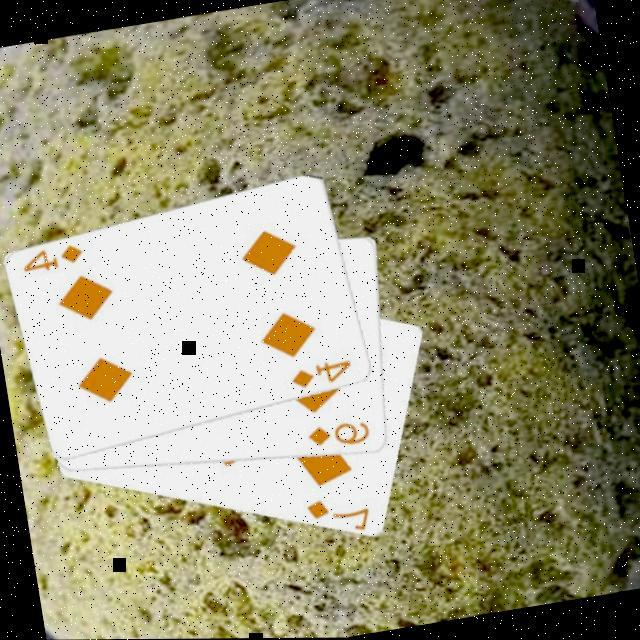4D: (16, 238, 88, 276), (286, 353, 356, 391)
6D: (302, 414, 374, 454)
7D: (300, 487, 374, 539)
